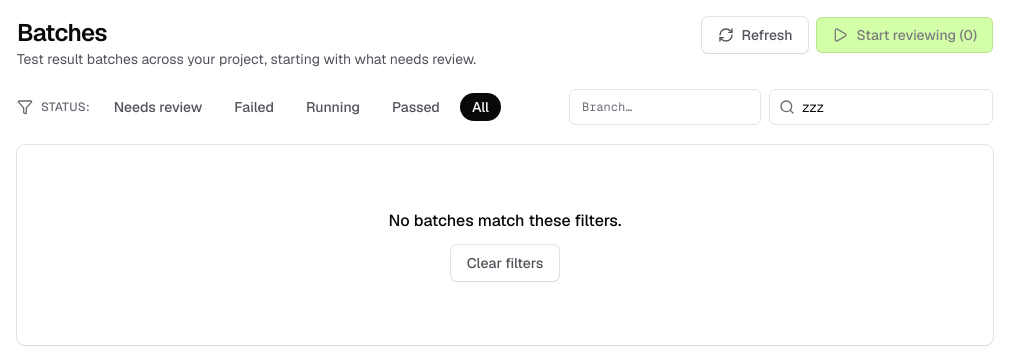
Batches: empty states name a next action › a search that matches nothing is a filtered empty too, and Clear filters empties the field
Expected: the text "No batches match these filters." is shown, [389,209,621,233]
Click the button "Clear filters" at [505, 263], box [451,245,559,281]
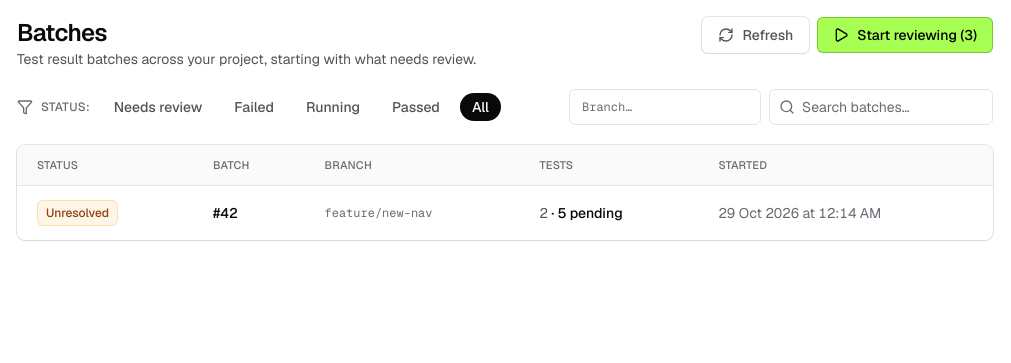
Expected: the search field with test id "inbox-search-input" is empty, [769,89,993,125]
